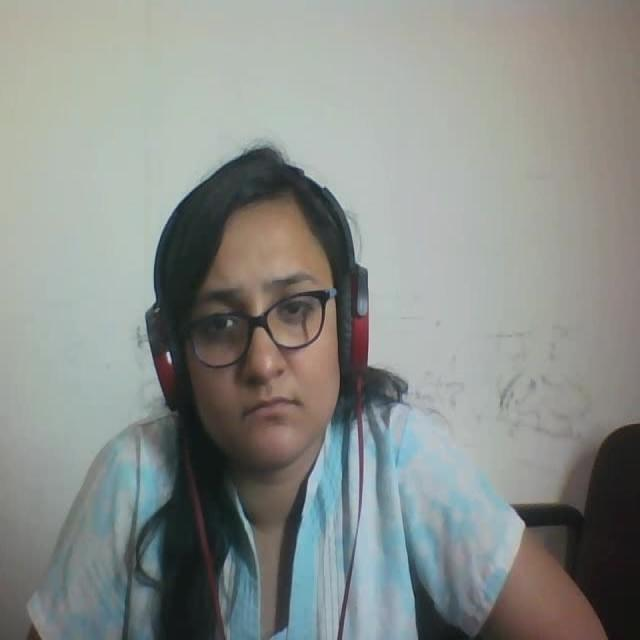Engaged: (122, 127, 433, 488)
